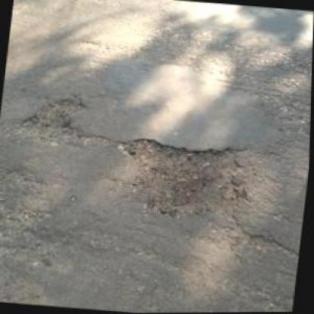Hueco: (122, 133, 260, 228), (17, 92, 89, 150)
